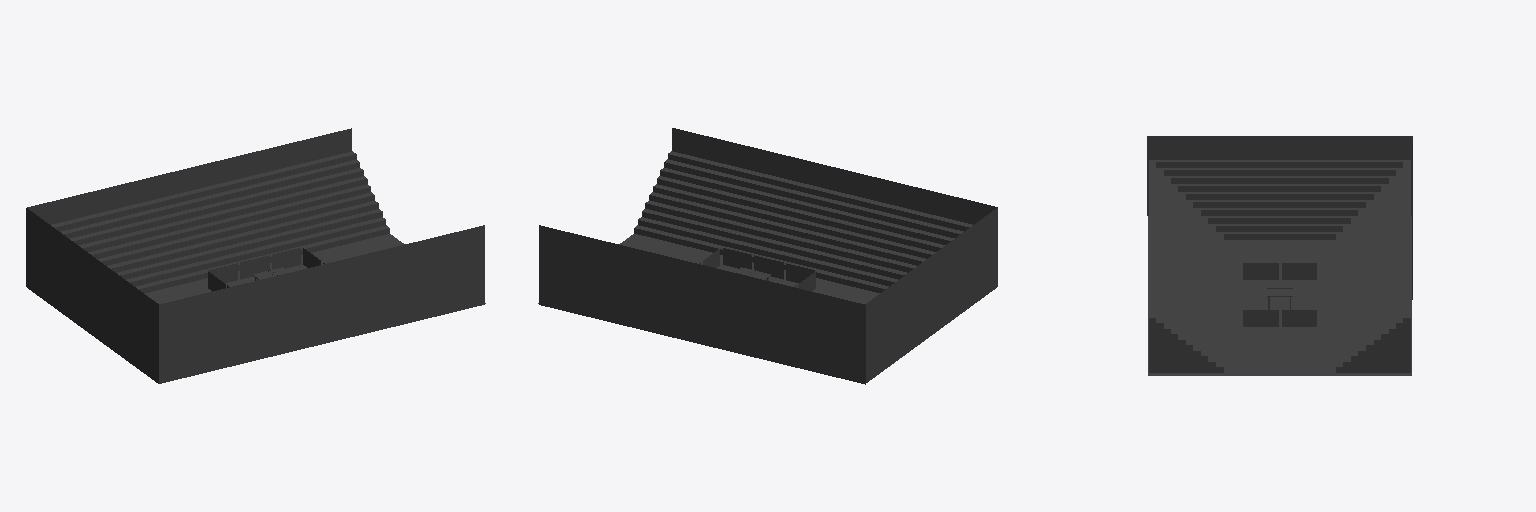
File: tabletennis_stage.obj
3 views of the same model, side by side, from view 1: azimuth 30°, elevation 25°; view 2: azimuth 150°, elevation 25°; view 3: azimuth 270°, elevation 25° (orthographic).
Visible parts, largest first — view 1: Plane.003, 立方体.025, Plane.001, Plane.002, Plane; view 2: Plane.002, 立方体.025, Plane.001, Plane.003, Plane; view 3: 立方体.025, Plane, Plane.001, 平面.006, 平面.009, 平面.007, 平面.008.
Boxes of the visible parts, box(x1,y1,x2,y2) form: Plane.003: box(159, 225, 484, 383); 立方体.025: box(51, 151, 389, 293); Plane.001: box(26, 208, 158, 383); Plane.002: box(27, 128, 351, 224); Plane: box(145, 234, 485, 303); Plane.002: box(539, 225, 865, 384); 立方体.025: box(634, 151, 972, 292); Plane.001: box(865, 208, 997, 382); Plane.003: box(672, 128, 997, 224); Plane: box(538, 234, 879, 303); 立方体.025: box(1149, 160, 1410, 372); Plane: box(1148, 216, 1411, 375); Plane.001: box(1147, 136, 1412, 215); 平面.006: box(1243, 263, 1278, 279); 平面.009: box(1243, 310, 1278, 326); 平面.007: box(1282, 310, 1316, 326); 平面.008: box(1282, 263, 1316, 279).
Bounding box in the file's own units: 98.83 × 23.04 × 69.43.